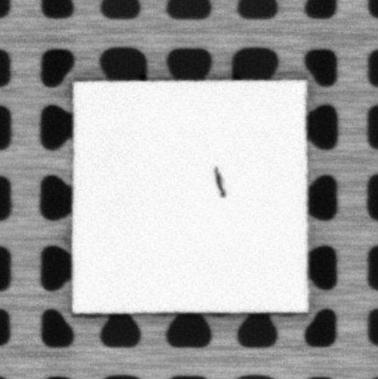DIE_INK: (211, 163, 228, 201)
